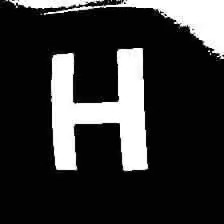LTR_H: (41, 36, 159, 176)
